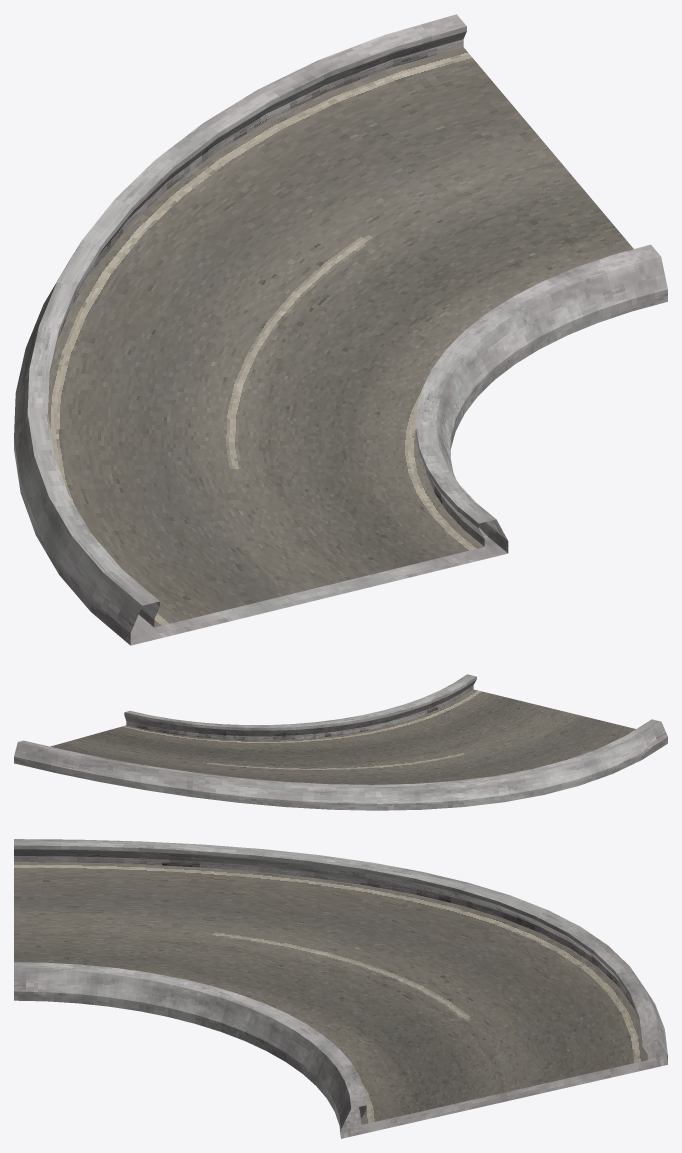
File: turn-right2x2.glb
3 renders of one model, top to bottom at view 1: azimuth 30°, elevation 25°; view 2: azimuth 150°, elevation 25°; view 3: azimuth 270°, elevation 25°, orthographic. The views are drawn at different scales.
Visible parts, largest first — view 1: road-Turn-Flat-HalfBankedRight-Even-Right-Size2; view 2: road-Turn-Flat-HalfBankedRight-Even-Right-Size2; view 3: road-Turn-Flat-HalfBankedRight-Even-Right-Size2.
Boxes of the visible parts, x1,y1,x2,y2 form: road-Turn-Flat-HalfBankedRight-Even-Right-Size2: [14, 14, 667, 645]; road-Turn-Flat-HalfBankedRight-Even-Right-Size2: [14, 674, 667, 810]; road-Turn-Flat-HalfBankedRight-Even-Right-Size2: [14, 839, 667, 1138].
Size of the model in its own units: 2 by 0.3359 by 2.
Materials: 2 (2 with a texture image).
